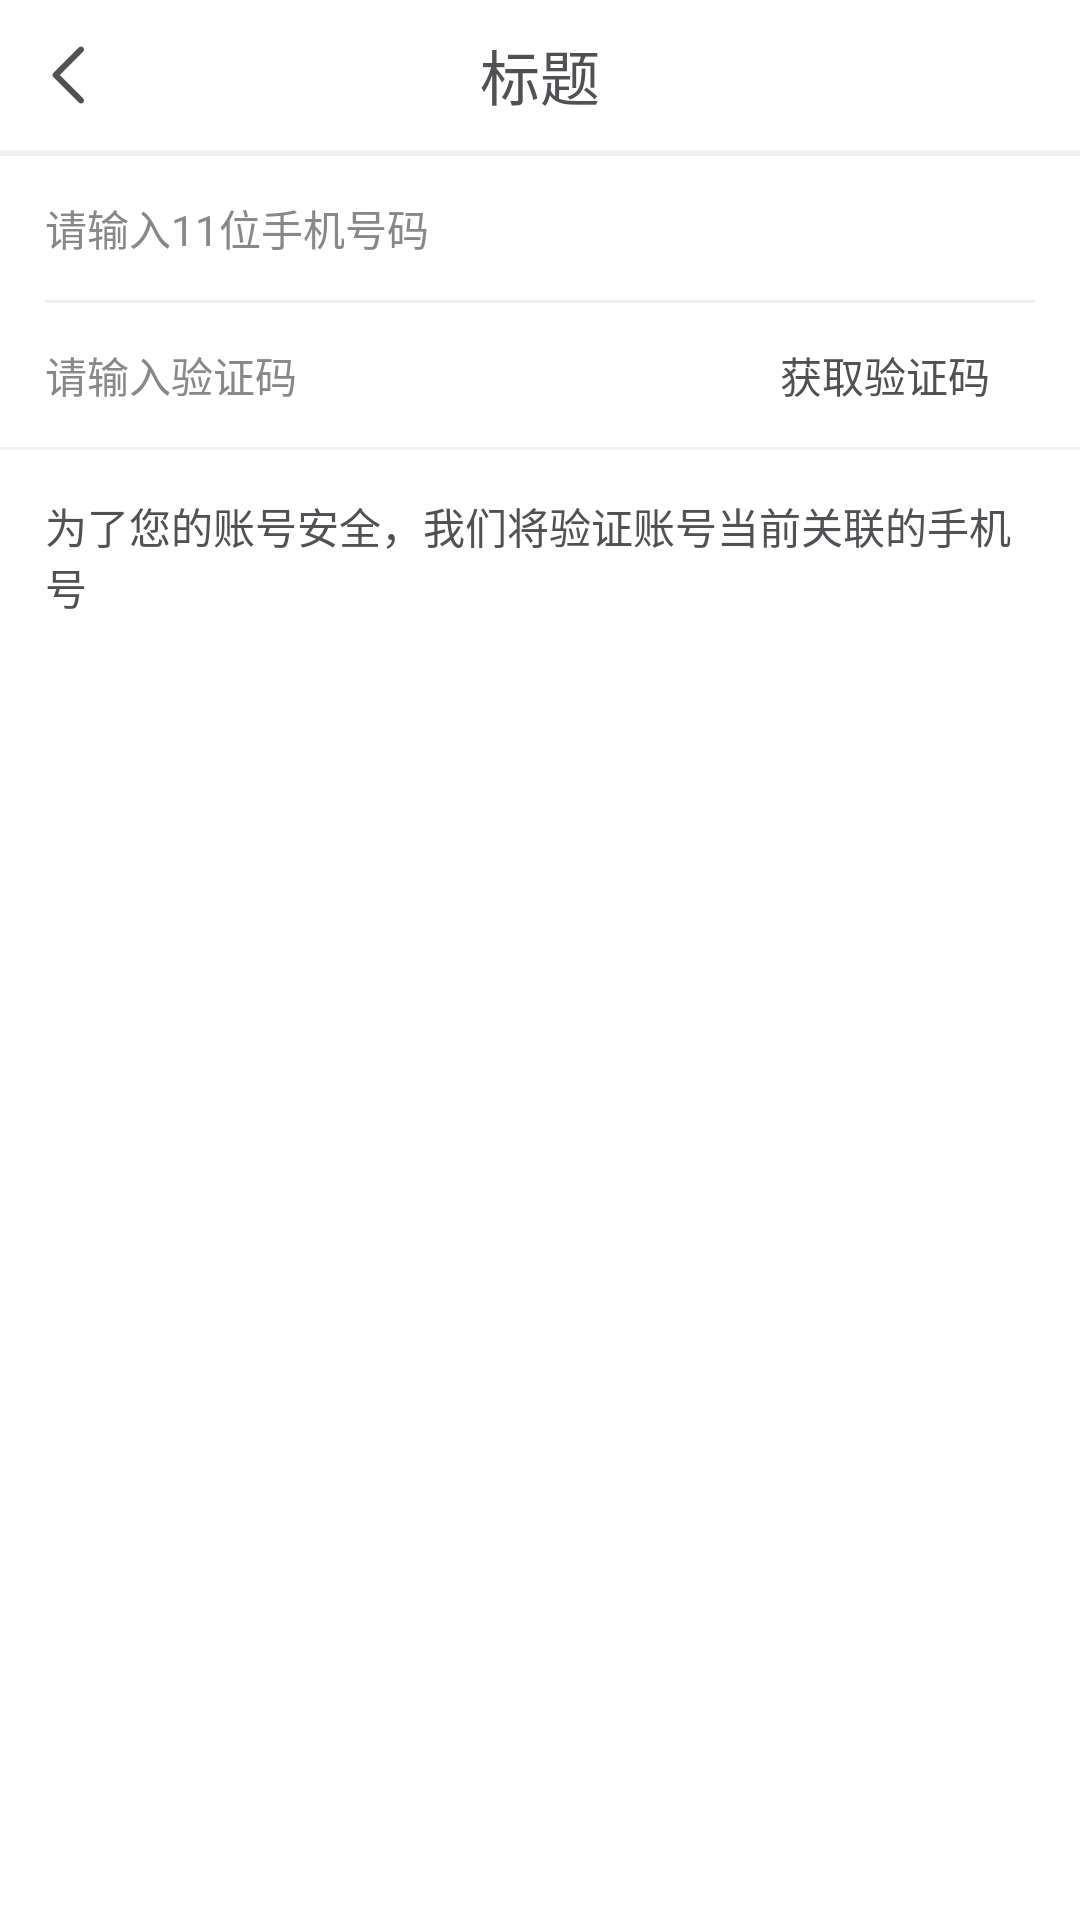

Screen size 1080*1920. Icon name, then its center in pixels as point (x, y):
back: point (68, 75)
